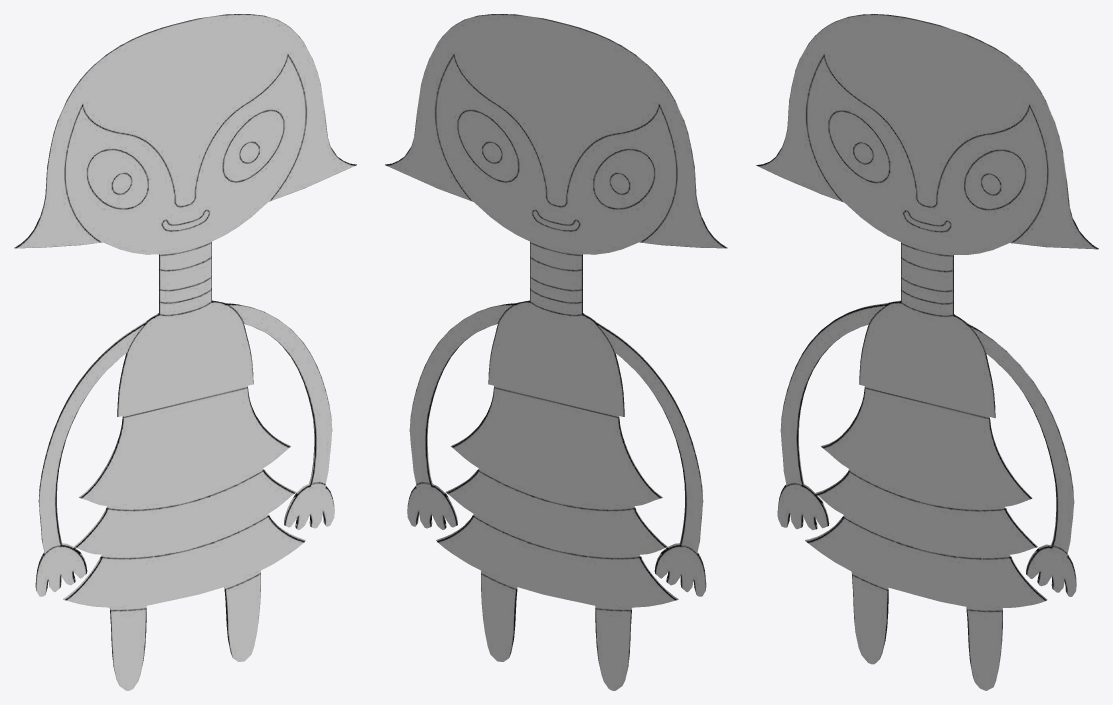
File: 37_mari-01.fbx
The picture shows the model from 3 angles, left to right: view 1: azimuth 30°, elevation 25°; view 2: azimuth 150°, elevation 25°; view 3: azimuth 330°, elevation 25°; orthographic projection.
Visible parts, largest first — view 1: planarTrimmedSurface20; view 2: planarTrimmedSurface20; view 3: planarTrimmedSurface20.
Boxes of the visible parts, x1,y1,x2,y2 form: planarTrimmedSurface20: (14, 14, 356, 690); planarTrimmedSurface20: (385, 14, 727, 690); planarTrimmedSurface20: (756, 14, 1098, 690).
Bounding box in the file's own units: 23.92 × 43.74 × 0.0571.
1 material, 1 textured.
